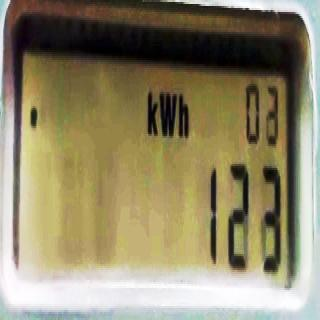-: (30, 102, 38, 134)
0: (245, 79, 261, 150)
1: (208, 158, 220, 276)
2: (226, 156, 251, 274)
3: (260, 162, 283, 280), (264, 78, 280, 150)
